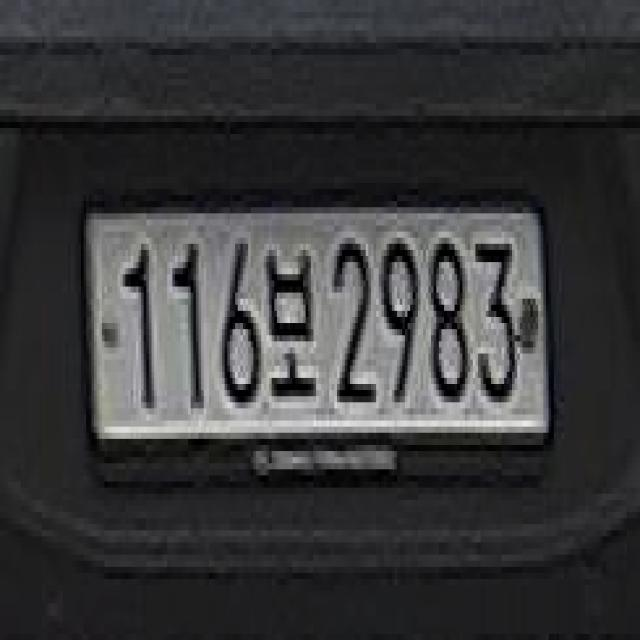illegal_plate: (85, 181, 552, 495)
